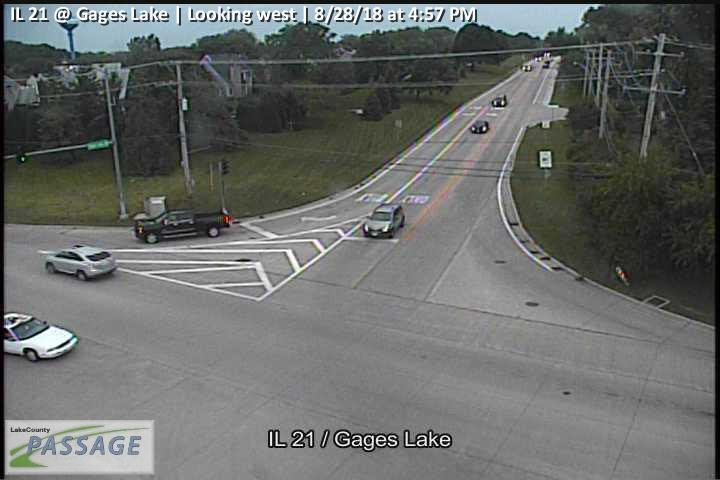SUV: (44, 246, 116, 282), (362, 203, 406, 239), (491, 94, 508, 107)
Sedan: (1, 313, 79, 362), (470, 120, 488, 135)
Truck: (134, 207, 232, 243)
